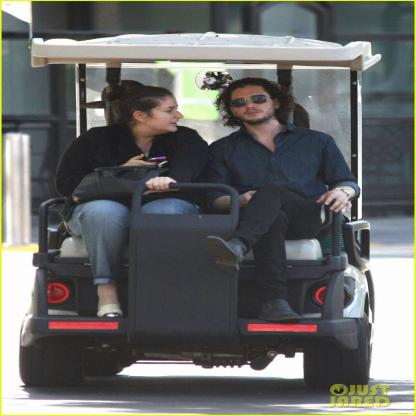face: (235, 86, 269, 122), (152, 98, 183, 130)
